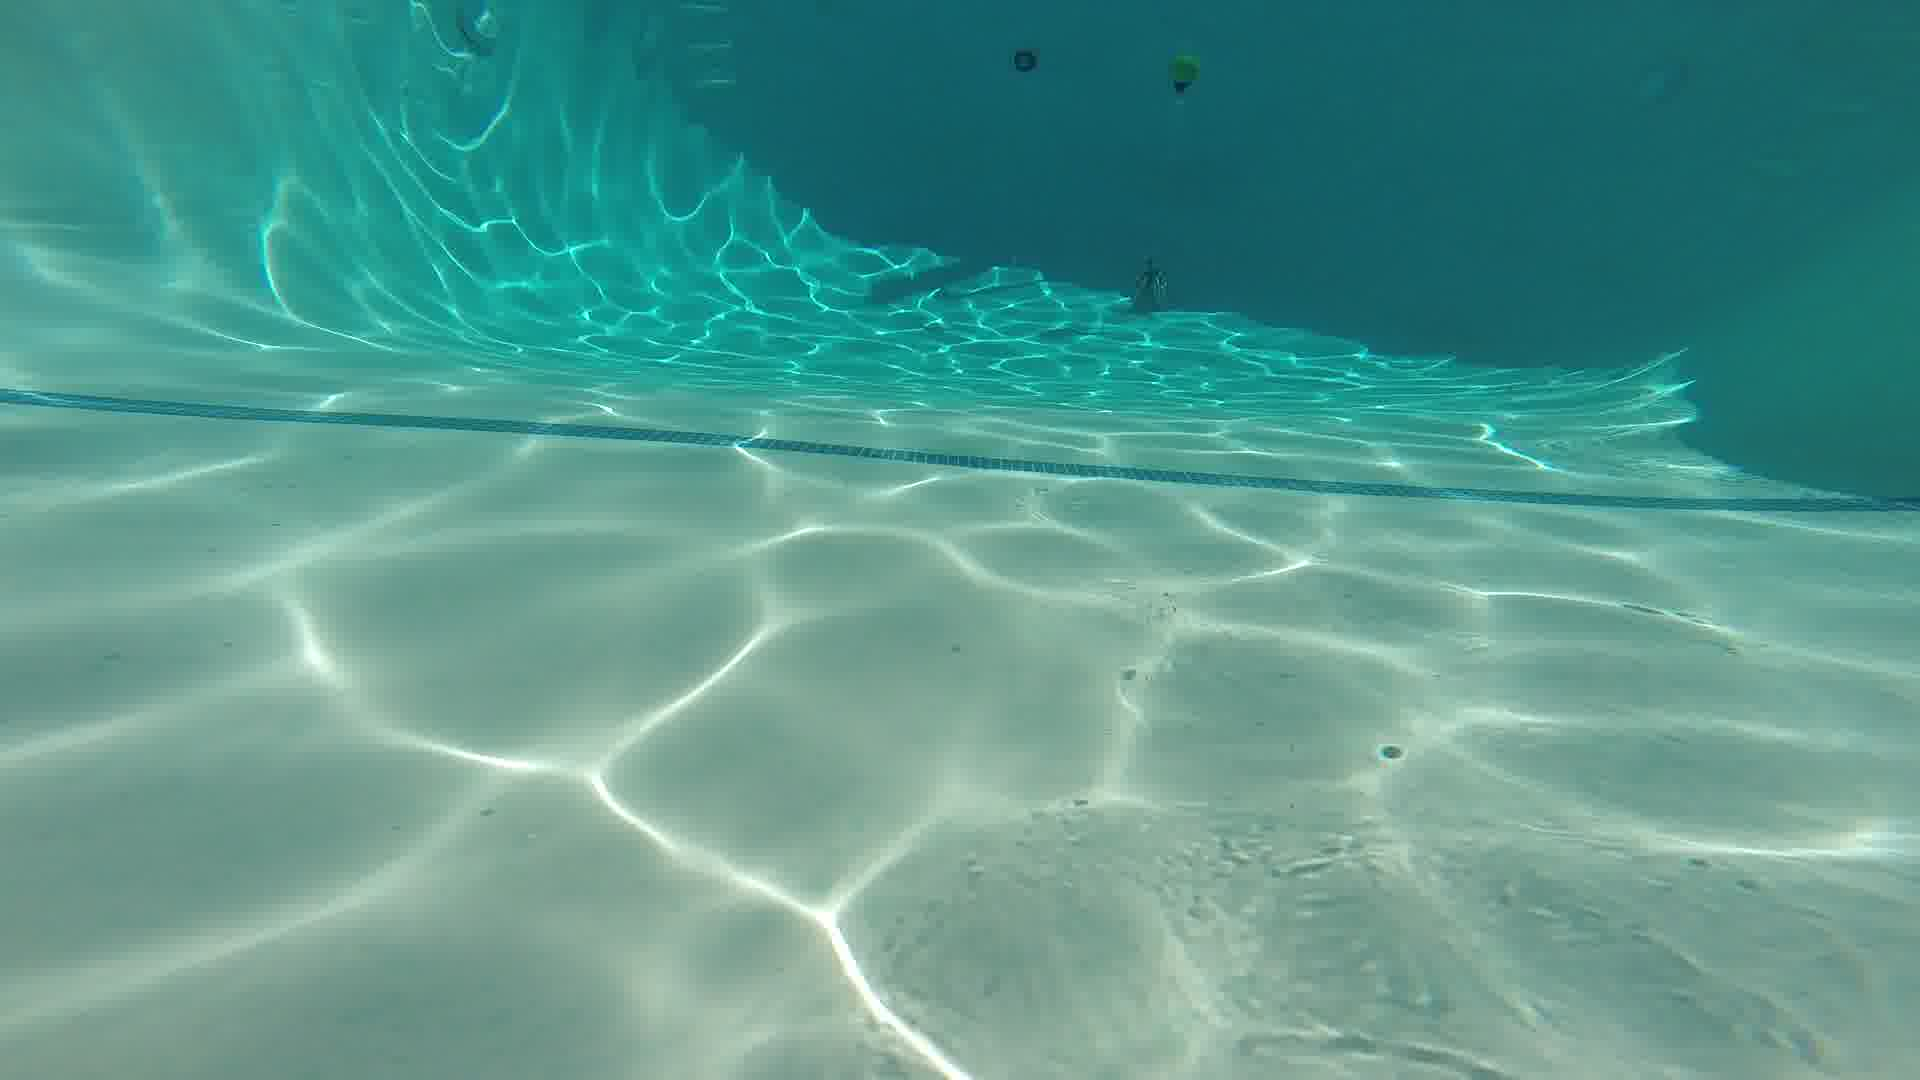yellow_buoy: (1170, 55, 1197, 95)
